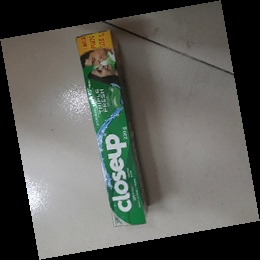CloseUp Xanh: (74, 29, 151, 229)
